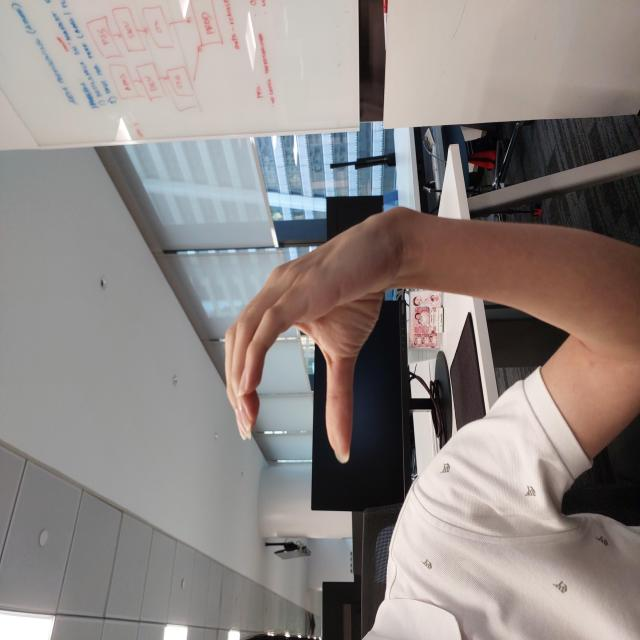C: (175, 224, 433, 400)
